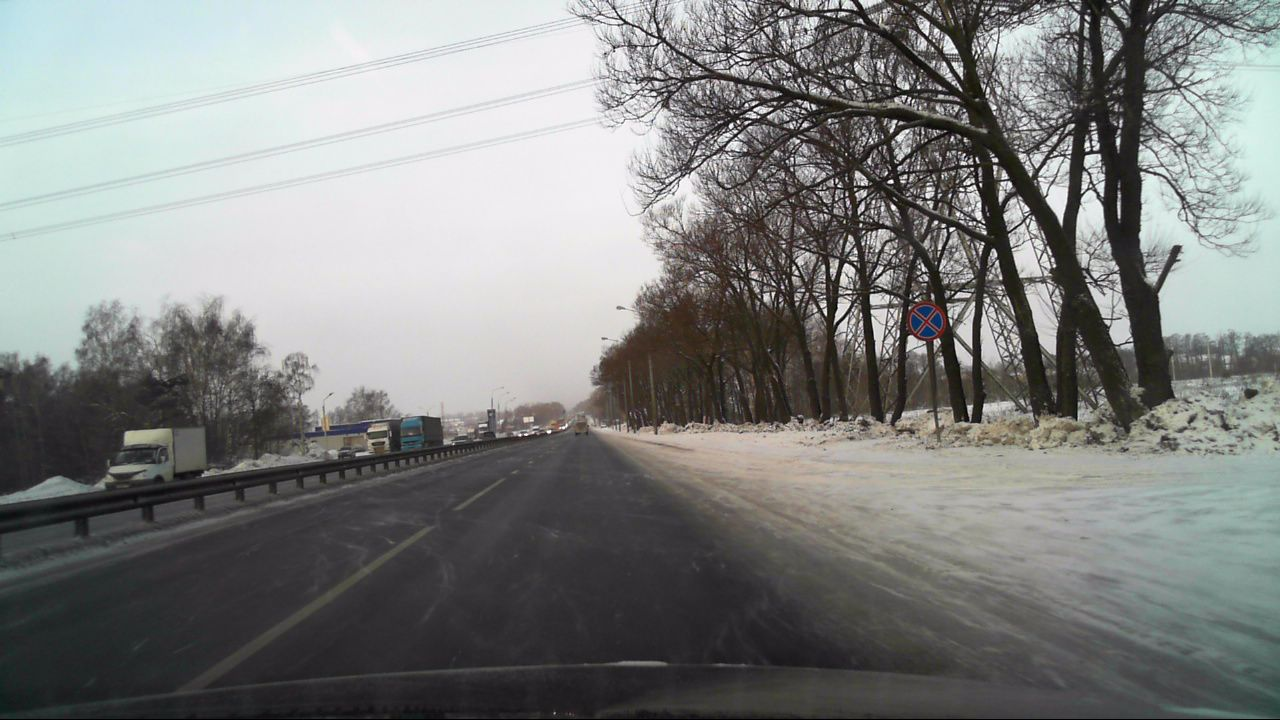No Parking: (909, 301, 944, 341)
